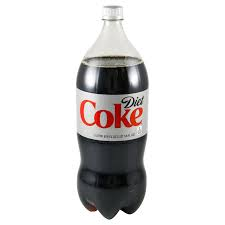coke: (78, 5, 147, 219)
